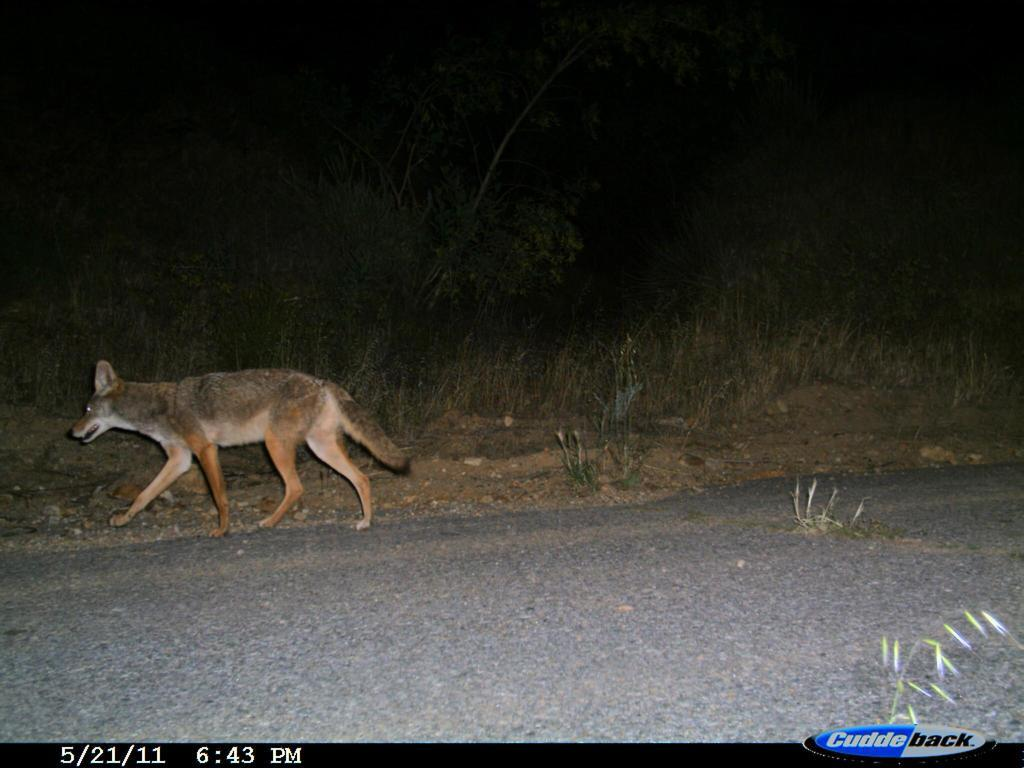coyote: (59, 354, 423, 536)
